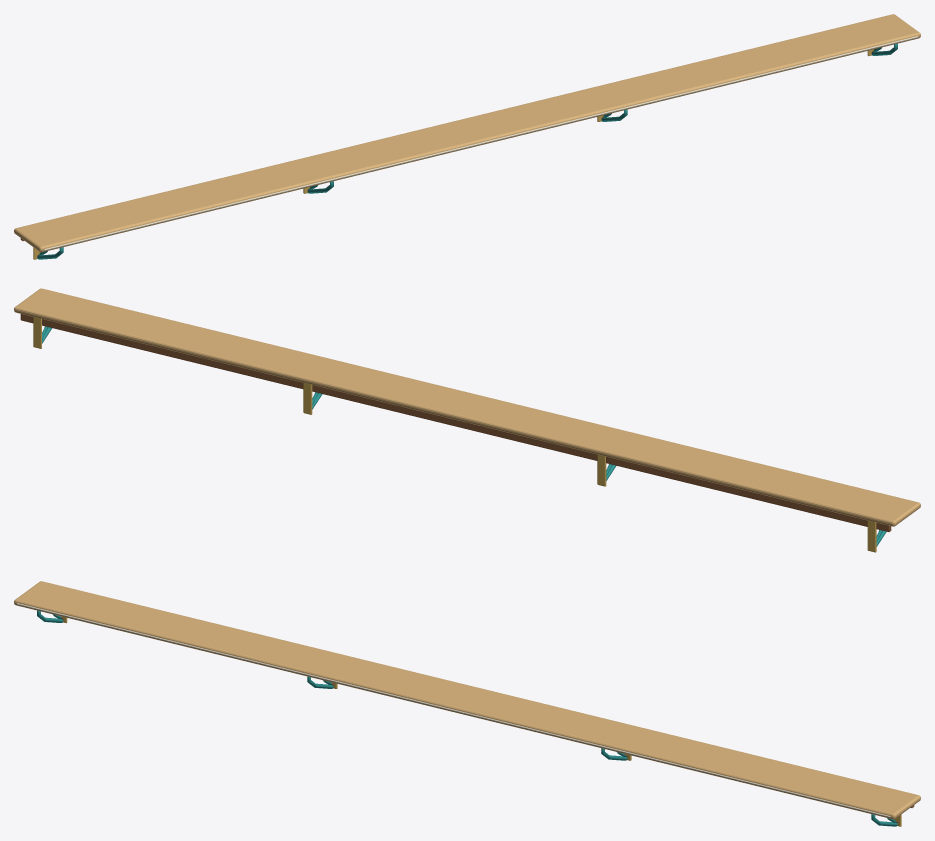
Rendered from botanical_wall_shelf.glb.
3 renders of one model, top to bottom at view 1: azimuth 30°, elevation 25°; view 2: azimuth 150°, elevation 25°; view 3: azimuth 330°, elevation 25°, orthographic.
Parts seen in each view (by area): view 1: Warm_wood_shelf, Cream_front_inlay; view 2: Warm_wood_shelf, Rear_wall_cleat; view 3: Warm_wood_shelf, Cream_front_inlay.
Boxes of the visible parts, x1,y1,x2,y2 form: Warm_wood_shelf: (14, 14, 920, 252); Cream_front_inlay: (44, 36, 918, 250); Warm_wood_shelf: (14, 288, 920, 526); Rear_wall_cleat: (20, 314, 891, 531); Warm_wood_shelf: (14, 581, 920, 819); Cream_front_inlay: (16, 603, 890, 817).
Bounding box in the file's own units: 5.6 × 0.218 × 0.304.
